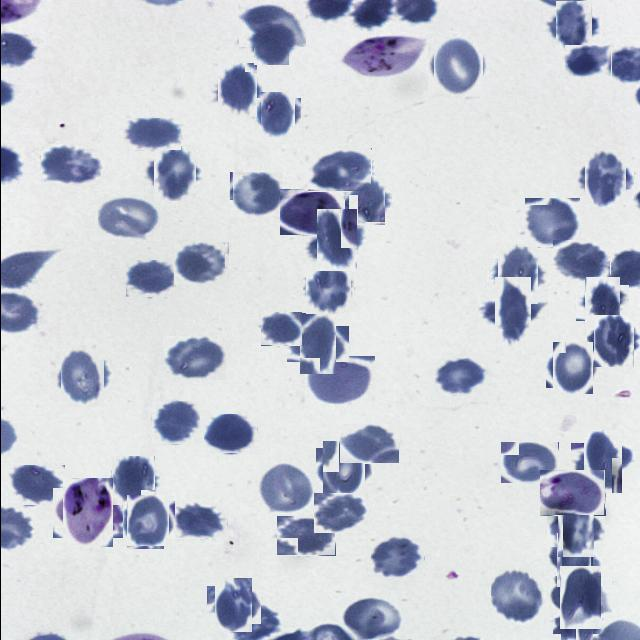difficult: (57, 483, 117, 543)
red blood cell: (304, 356, 374, 406), (430, 39, 485, 94), (490, 569, 544, 624), (238, 4, 305, 47), (55, 349, 108, 403), (257, 462, 313, 513), (96, 197, 160, 241), (307, 148, 371, 192), (524, 198, 580, 248), (162, 336, 225, 380), (310, 213, 362, 266), (486, 286, 538, 338), (554, 571, 606, 623), (40, 144, 101, 188), (576, 436, 628, 487), (492, 249, 542, 299), (318, 444, 368, 494), (148, 148, 198, 198), (229, 172, 283, 218), (173, 242, 229, 286), (500, 442, 558, 484), (552, 240, 610, 282), (580, 154, 630, 202), (292, 320, 342, 368), (339, 424, 399, 464), (370, 536, 424, 580), (276, 516, 335, 556), (303, 264, 352, 312), (122, 498, 170, 546), (7, 465, 64, 505), (213, 67, 260, 114), (548, 344, 594, 392), (313, 493, 368, 533), (203, 414, 257, 454), (108, 458, 156, 503), (151, 401, 200, 445), (210, 582, 256, 628), (550, 537, 596, 583), (550, 2, 596, 48), (552, 506, 598, 552), (590, 318, 636, 364), (580, 280, 624, 326), (434, 358, 487, 396), (125, 260, 177, 297), (174, 503, 227, 539), (122, 118, 180, 150), (344, 180, 388, 222), (556, 597, 597, 638), (250, 22, 292, 62), (257, 94, 297, 134), (564, 45, 611, 78), (260, 312, 302, 346)
ring: (538, 470, 604, 516), (279, 189, 344, 235)
trophozoite: (340, 35, 426, 78)
